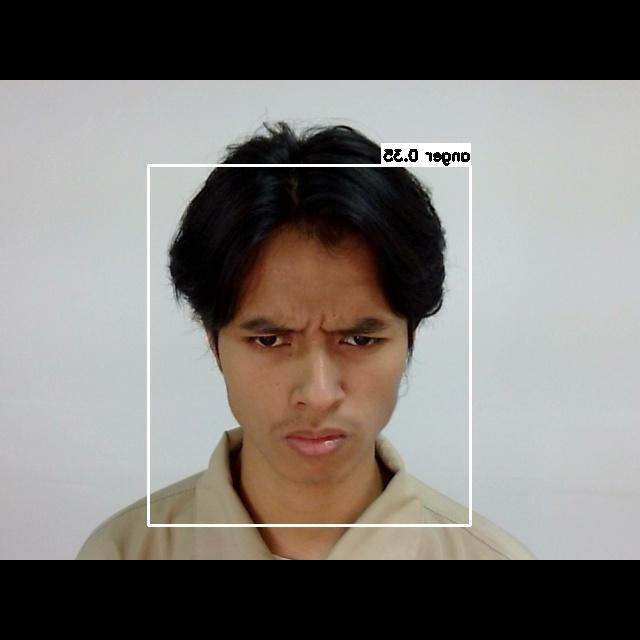Angry: (189, 283, 411, 465)
